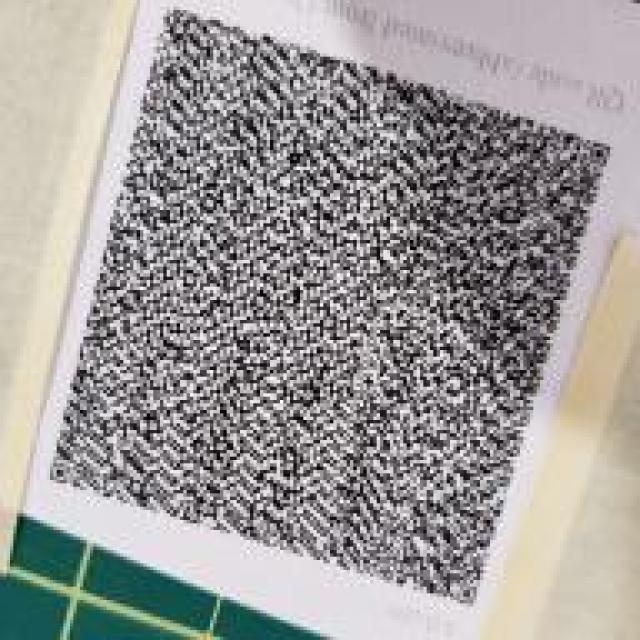QR_CODE: (20, 1, 623, 626)
